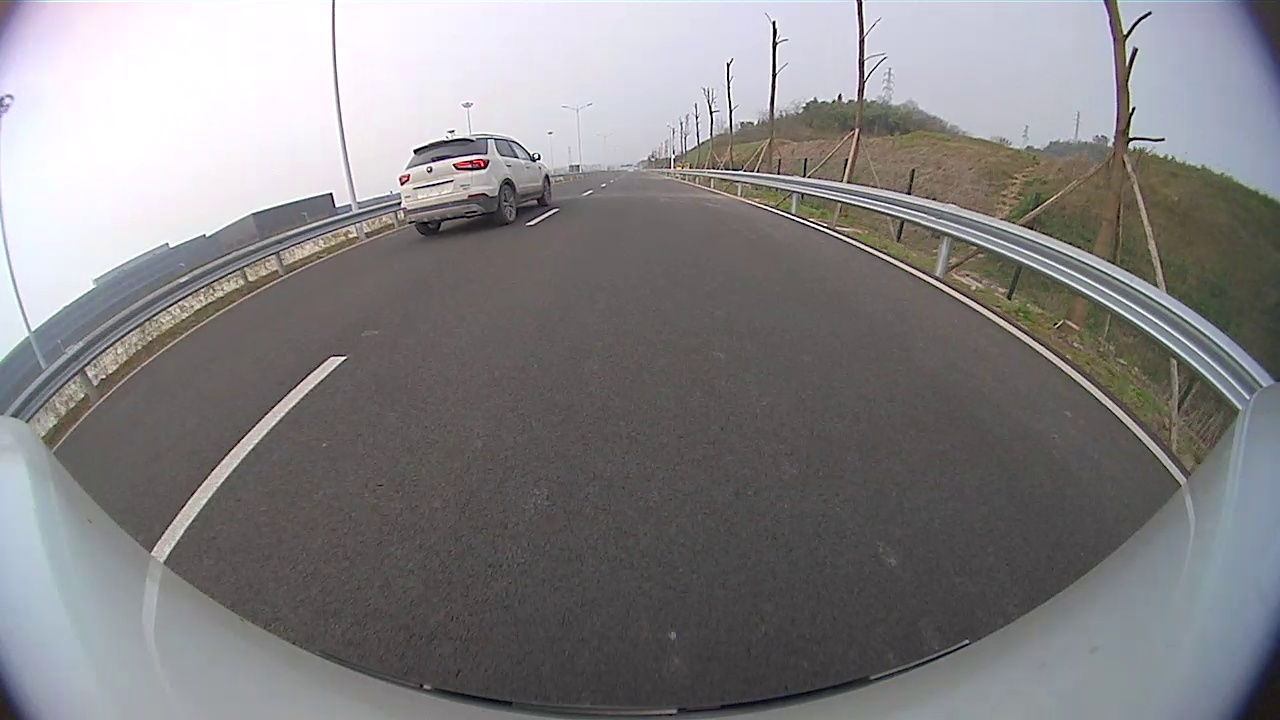car: (400, 132, 555, 239)
front: (541, 172, 553, 207)
rear: (499, 182, 518, 225)
